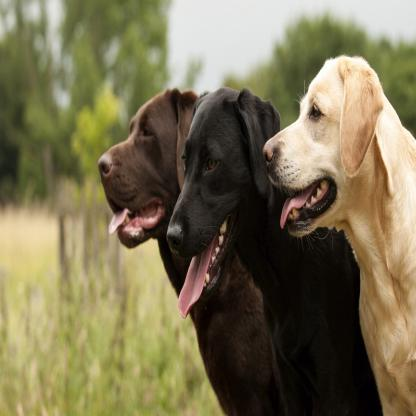Labarador Retriever: (167, 87, 381, 416), (100, 89, 276, 416)
husky: (261, 52, 416, 415)
